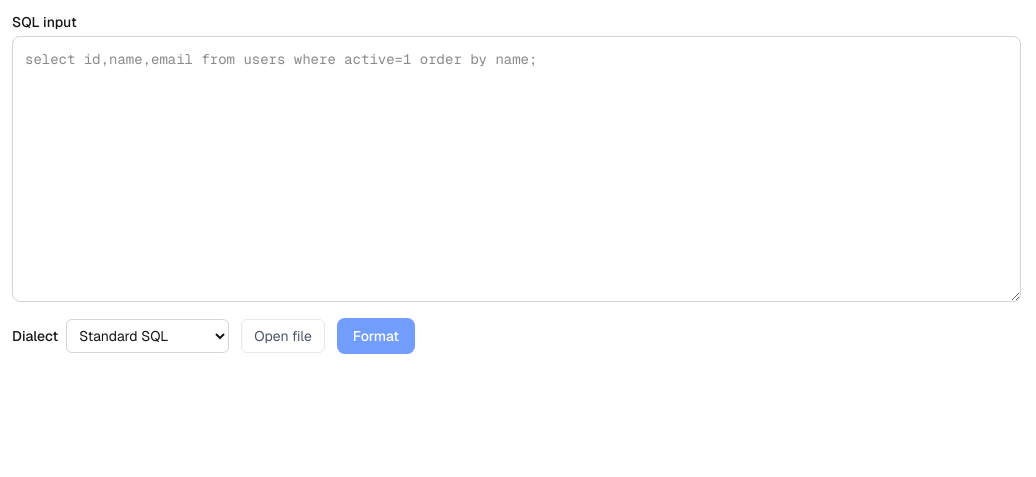
it: SqlFormatterTool › shows a friendly error when formatting fails
Step 1. Replace the text in the text box labelled "SQL input" with "not sql at all $$" → {"x": 516, "y": 169}, box [12,36,1021,302]
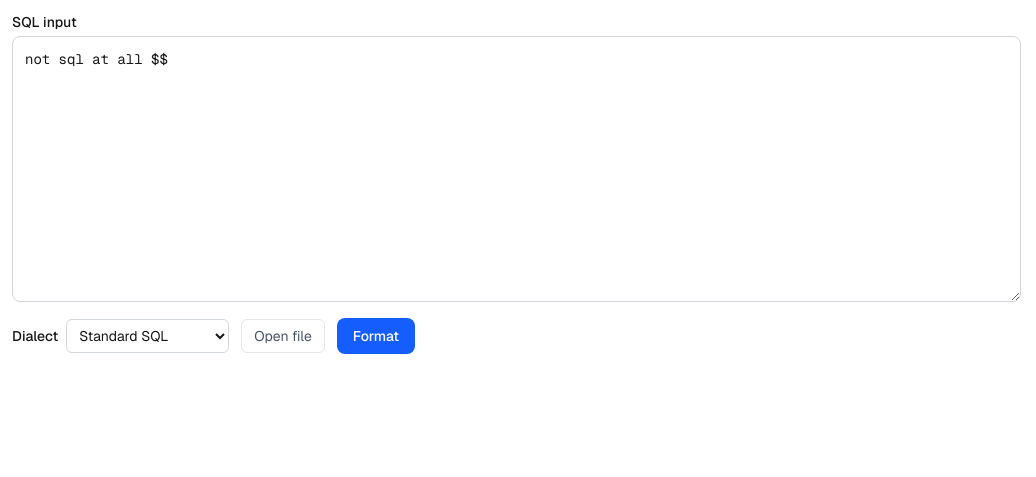
Step 2. Click the button "Format" → {"x": 376, "y": 336}, box [337,318,415,354]
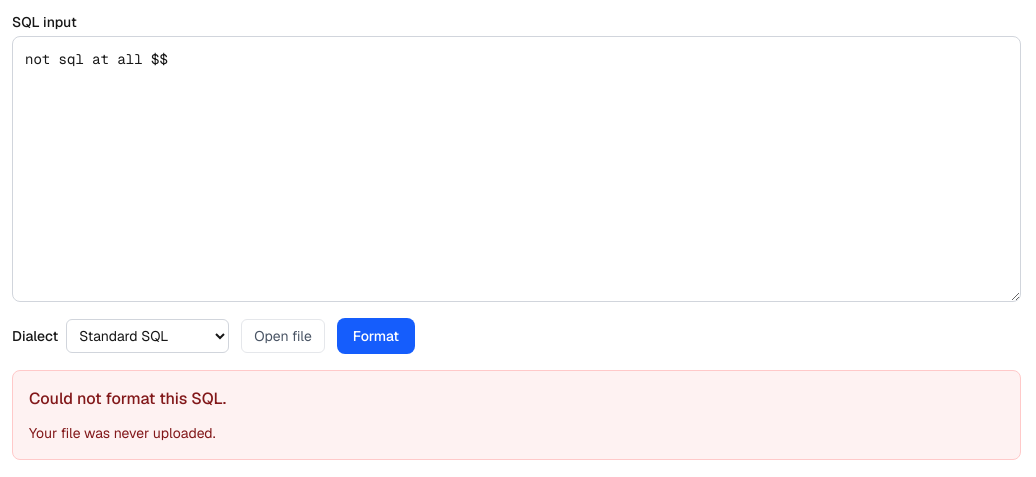
Expected: the message "Could not format this SQL. Your file was never uploaded." is shown, [12,370,1021,460]
